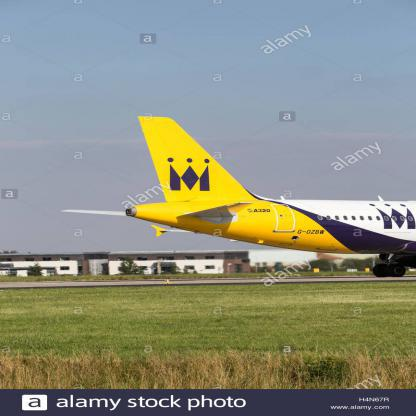CIV_Plane: (56, 112, 416, 282)
